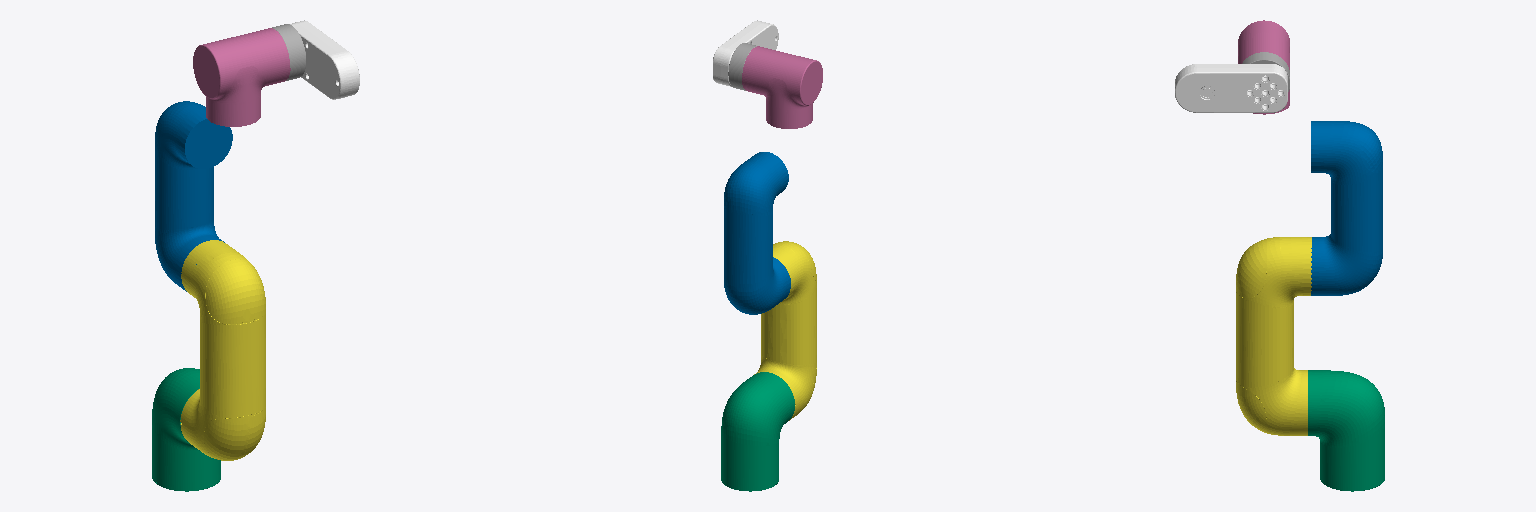
URDF robot description (firefighter):
<?xml version='1.0' encoding='utf-8'?>
<robot name="firefighter">
  <link name="g_base">
    <!-- placeholder inertial added by normalize_urdf.py - replace with CAD values -->
    <inertial>
      <origin xyz="0 0 0" rpy="0 0 0" />
      <mass value="0.1" />
      <inertia ixx="3.600e-05" ixy="0" ixz="0" iyy="3.600e-05" iyz="0" izz="3.600e-05" />
    </inertial>
    <visual>
      <geometry>
        <mesh filename="../../meshes/G_base.dae" />
      </geometry>
      <origin xyz="0.0 0 -0.03" rpy="0 0 1.5708" />
    </visual>
    <collision>
      <geometry>
        <mesh filename="../../meshes/G_base.dae" />
      </geometry>
      <origin xyz="0.0 0 -0.03" rpy="0 0 1.5708" />
    </collision>
  </link>
  <link name="joint1">
    <!-- placeholder inertial added by normalize_urdf.py - replace with CAD values -->
    <inertial>
      <origin xyz="0 0 0" rpy="0 0 0" />
      <mass value="0.1" />
      <inertia ixx="3.600e-05" ixy="0" ixz="0" iyy="3.600e-05" iyz="0" izz="3.600e-05" />
    </inertial>
    <visual>
      <geometry>
        <!--- 0.0 0 -0.04  1.5708 3.14159-->
        <mesh filename="../../meshes/joint1_pi.dae" />
      </geometry>
      <origin xyz="0.0 0 0 " rpy=" 0 0 0" />
    </visual>
    <collision>
      <geometry>
        <!--- 0.0 0 -0.04  1.5708 3.14159-->
        <mesh filename="../../meshes/joint1_pi.dae" />
      </geometry>
      <origin xyz="0.0 0 0 " rpy=" 0 0 0" />
    </collision>
  </link>
  <link name="joint2">
    <!-- placeholder inertial added by normalize_urdf.py - replace with CAD values -->
    <inertial>
      <origin xyz="0 0 0" rpy="0 0 0" />
      <mass value="0.1" />
      <inertia ixx="3.600e-05" ixy="0" ixz="0" iyy="3.600e-05" iyz="0" izz="3.600e-05" />
    </inertial>
    <visual>
      <geometry>
        <mesh filename="../../meshes/joint2.dae" />
      </geometry>
      <origin xyz="0.0 0 -0.06096 " rpy=" 0 0 -1.5708" />
    </visual>
    <collision>
      <geometry>
        <mesh filename="../../meshes/joint2.dae" />
      </geometry>
      <origin xyz="0.0 0 -0.06096 " rpy=" 0 0 -1.5708" />
    </collision>
  </link>
  <link name="joint3">
    <!-- placeholder inertial added by normalize_urdf.py - replace with CAD values -->
    <inertial>
      <origin xyz="0 0 0" rpy="0 0 0" />
      <mass value="0.1" />
      <inertia ixx="3.600e-05" ixy="0" ixz="0" iyy="3.600e-05" iyz="0" izz="3.600e-05" />
    </inertial>
    <visual>
      <geometry>
        <mesh filename="../../meshes/joint3.dae" />
      </geometry>
      <origin xyz="0.0 0 0.03256 " rpy=" 0 -1.5708 0" />
    </visual>
    <collision>
      <geometry>
        <mesh filename="../../meshes/joint3.dae" />
      </geometry>
      <origin xyz="0.0 0 0.03256 " rpy=" 0 -1.5708 0" />
    </collision>
  </link>
  <link name="joint4">
    <!-- placeholder inertial added by normalize_urdf.py - replace with CAD values -->
    <inertial>
      <origin xyz="0 0 0" rpy="0 0 0" />
      <mass value="0.1" />
      <inertia ixx="3.600e-05" ixy="0" ixz="0" iyy="3.600e-05" iyz="0" izz="3.600e-05" />
    </inertial>
    <visual>
      <geometry>
        <!--- 0.0 0 -0.04 -->
        <mesh filename="../../meshes/joint4.dae" />
      </geometry>
      <origin xyz="0.0 0 0.03056 " rpy=" 0 -1.5708 0" />
    </visual>
    <collision>
      <geometry>
        <!--- 0.0 0 -0.04 -->
        <mesh filename="../../meshes/joint4.dae" />
      </geometry>
      <origin xyz="0.0 0 0.03056 " rpy=" 0 -1.5708 0" />
    </collision>
  </link>
  <link name="joint5">
    <!-- placeholder inertial added by normalize_urdf.py - replace with CAD values -->
    <inertial>
      <origin xyz="0 0 0" rpy="0 0 0" />
      <mass value="0.1" />
      <inertia ixx="3.600e-05" ixy="0" ixz="0" iyy="3.600e-05" iyz="0" izz="3.600e-05" />
    </inertial>
    <visual>
      <geometry>
        <!--- 0.0 0 -0.04 -->
        <mesh filename="../../meshes/joint5.dae" />
      </geometry>
      <origin xyz="0.0 0 -0.03356 " rpy=" 0 -1.5708 1.5708" />
    </visual>
    <collision>
      <geometry>
        <!--- 0.0 0 -0.04 -->
        <mesh filename="../../meshes/joint5.dae" />
      </geometry>
      <origin xyz="0.0 0 -0.03356 " rpy=" 0 -1.5708 1.5708" />
    </collision>
  </link>
  <link name="joint6">
    <!-- placeholder inertial added by normalize_urdf.py - replace with CAD values -->
    <inertial>
      <origin xyz="0 0 0" rpy="0 0 0" />
      <mass value="0.1" />
      <inertia ixx="3.600e-05" ixy="0" ixz="0" iyy="3.600e-05" iyz="0" izz="3.600e-05" />
    </inertial>
    <visual>
      <geometry>
        <!--- 0.0 0 -0.04 -->
        <mesh filename="../../meshes/joint6.dae" />
      </geometry>
      <origin xyz="0 0.00 -0.038 " rpy=" 0 0 0" />
    </visual>
    <collision>
      <geometry>
        <!--- 0.0 0 -0.04 -->
        <mesh filename="../../meshes/joint6.dae" />
      </geometry>
      <origin xyz="0 0.00 -0.038 " rpy=" 0 0 0" />
    </collision>
  </link>
  <link name="joint6_flange">
    <!-- placeholder inertial added by normalize_urdf.py - replace with CAD values -->
    <inertial>
      <origin xyz="0 0 0" rpy="0 0 0" />
      <mass value="0.1" />
      <inertia ixx="3.600e-05" ixy="0" ixz="0" iyy="3.600e-05" iyz="0" izz="3.600e-05" />
    </inertial>
    <visual>
      <geometry>
        <!--- 0.0 0 -0.04 -->
        <mesh filename="../../meshes/joint7.dae" />
      </geometry>
      <origin xyz="0.0 0 -0.012 " rpy=" 0 0 0" />
    </visual>
    <collision>
      <geometry>
        <!--- 0.0 0 -0.04 -->
        <mesh filename="../../meshes/joint7.dae" />
      </geometry>
      <origin xyz="0.0 0 -0.012 " rpy=" 0 0 0" />
    </collision>
  </link>
  <link name="camera_flange">
    <!-- placeholder inertial added by normalize_urdf.py - replace with CAD values -->
    <inertial>
      <origin xyz="0 0 0" rpy="0 0 0" />
      <mass value="0.1" />
      <inertia ixx="3.600e-05" ixy="0" ixz="0" iyy="3.600e-05" iyz="0" izz="3.600e-05" />
    </inertial>
    <visual>
      <geometry>
        <mesh filename="../../meshes/camera_flange.dae" />
      </geometry>
      <origin xyz="0.024 -0.008 0.0 " rpy=" 0 3.14159 0" />
    </visual>
    <collision>
      <geometry>
        <mesh filename="../../meshes/camera_flange.dae" />
      </geometry>
      <origin xyz="0.024 -0.008 0.0 " rpy=" 0 3.14159 0" />
    </collision>
  </link>
  <joint name="g_base_to_joint1" type="fixed">
    <axis xyz="0 0 0" />
    <limit effort="1000.0" lower="-3.14" upper="3.14159" velocity="0" />
    <parent link="g_base" />
    <child link="joint1" />
    <origin xyz="0 0 0" rpy="0 0 0" />
  </joint>
  <joint name="joint2_to_joint1" type="revolute">
    <axis xyz="0 0 1" />
    <limit effort="1000.0" lower="-3.14" upper="3.14159" velocity="2" />
    <parent link="joint1" />
    <child link="joint2" />
    <origin xyz="0 0 0.13956" rpy="0 0 0" />
  </joint>
  <joint name="joint3_to_joint2" type="revolute">
    <axis xyz="0 0 1" />
    <limit effort="1000.0" lower="-3.14" upper="3.14159" velocity="2" />
    <parent link="joint2" />
    <child link="joint3" />
    <origin xyz="0 0 -0.001" rpy="0 1.5708 -1.5708" />
  </joint>
  <joint name="joint4_to_joint3" type="revolute">
    <axis xyz=" 0 0 1" />
    <limit effort="1000.0" lower="-3.14" upper="3.14159" velocity="2" />
    <parent link="joint3" />
    <child link="joint4" />
    <origin xyz="  -0.1104 0 0   " rpy="0 0 0" />
  </joint>
  <joint name="joint5_to_joint4" type="revolute">
    <axis xyz=" 0 0 1" />
    <limit effort="1000.0" lower="-3.14" upper="3.14159" velocity="2" />
    <parent link="joint4" />
    <child link="joint5" />
    <origin xyz="-0.096 0 0.06462" rpy="0 0 -1.5708" />
  </joint>
  <joint name="joint6_to_joint5" type="revolute">
    <axis xyz="0 0 1" />
    <limit effort="1000.0" lower="-3.14" upper="3.14159" velocity="2" />
    <parent link="joint5" />
    <child link="joint6" />
    <origin xyz="0 -0.07318 0" rpy="1.5708 -1.5708 0" />
  </joint>
  <joint name="joint6output_to_joint6" type="revolute">
    <axis xyz="0 0 1" />
    <limit effort="1000.0" lower="-3.14" upper="3.14159" velocity="2" />
    <parent link="joint6" />
    <child link="joint6_flange" />
    <origin xyz="0 0.0456 0" rpy="-1.5708 0 0" />
  </joint>
  <joint name="joint6output_to_camera_flange" type="fixed">
    <!-- <axis xyz="0 0 1"/>
    <limit effort = "1000.0" lower = "-3.14" upper = "3.14159" velocity = "0"/> -->
    <parent link="joint6_flange" />
    <child link="camera_flange" />
    <!-- <origin xyz= "0 0.0 0" rpy = "-1.5708 0 0"/>   -->
    <origin xyz="0 0 0.01" rpy="1.579 0 0" />
  </joint>
</robot>

--- What the picture shows (computed from the rendered views, not written in the file) ---
The picture shows the robot from 3 angles, left to right: view 1: azimuth 30°, elevation 25°; view 2: azimuth 150°, elevation 25°; view 3: azimuth 270°, elevation 25°; orthographic projection.
Robot: firefighter — 9 links, 8 joints (6 revolute, 2 fixed); root link g_base; default pose: every joint at zero.
Visible links, largest first — view 1: joint3, joint4, joint6, joint2, camera_flange, joint6_flange; view 2: joint4, joint2, joint3, joint6, camera_flange, joint6_flange; view 3: joint3, joint4, joint2, camera_flange, joint6.
Boxes of the visible links, left/top/right/bottom form: joint3: left=180, top=240, right=265, bottom=460; joint4: left=155, top=101, right=232, bottom=291; joint6: left=193, top=28, right=290, bottom=126; joint2: left=152, top=368, right=220, bottom=491; camera_flange: left=290, top=20, right=359, bottom=99; joint6_flange: left=272, top=24, right=305, bottom=80; joint4: left=724, top=152, right=790, bottom=314; joint2: left=721, top=372, right=794, bottom=491; joint3: left=754, top=241, right=816, bottom=420; joint6: left=742, top=46, right=822, bottom=128; camera_flange: left=713, top=20, right=778, bottom=86; joint6_flange: left=728, top=43, right=756, bottom=90; joint3: left=1236, top=237, right=1311, bottom=435; joint4: left=1311, top=121, right=1382, bottom=295; joint2: left=1308, top=370, right=1384, bottom=491; camera_flange: left=1175, top=64, right=1287, bottom=112; joint6: left=1238, top=20, right=1289, bottom=114.
Bounding box of the posed robot: 0.0877 × 0.1541 × 0.3619 m (x, y, z).
Meshes: 9 distinct files referenced, 6 mesh visuals loaded (6 Collada DAE); not drawn: 3 (reference not matched to a file when rendering).
